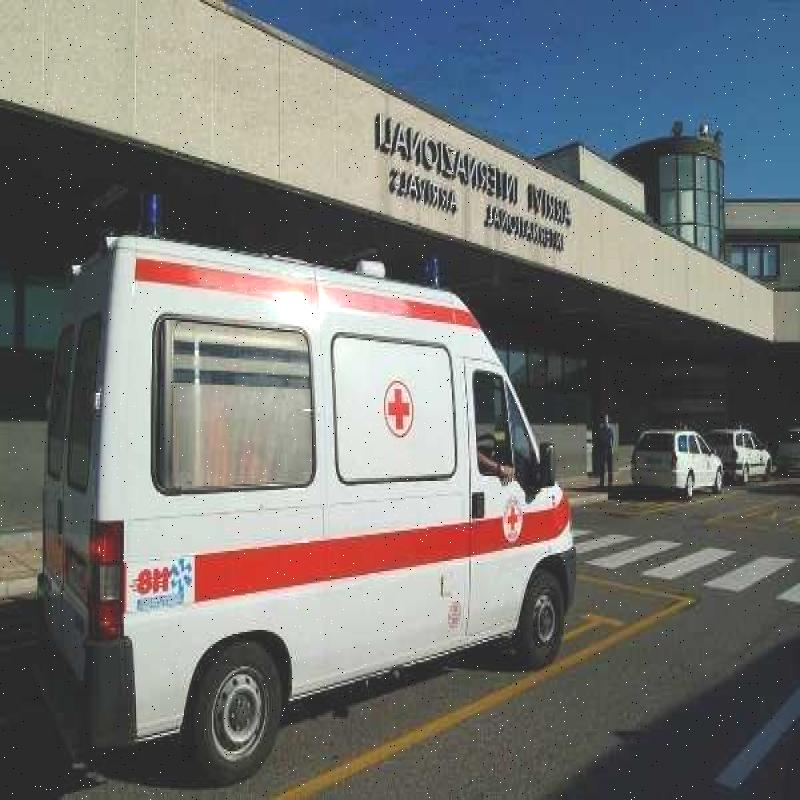ambulance: (55, 214, 582, 800)
